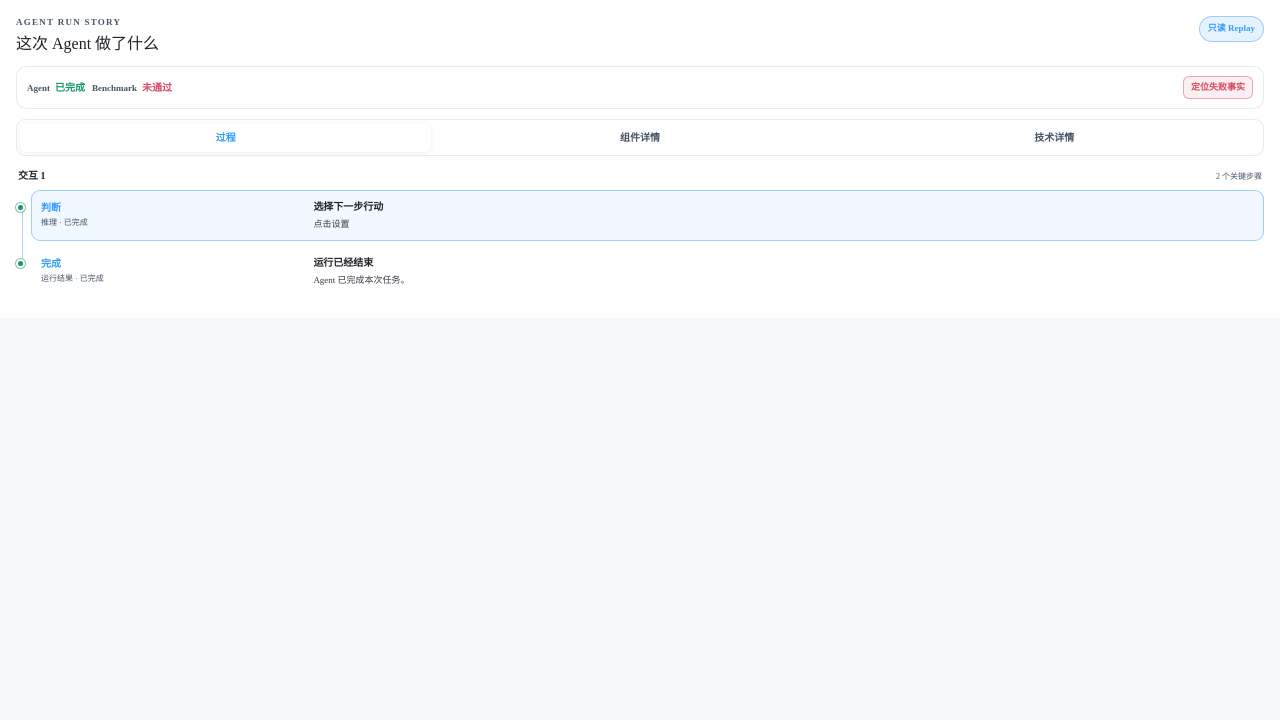
RunInspector › locks historical detail while retaining a clear return-to-current action
Step 1. Click the button "判断 推理 · 已完成 选择下一步行动 点击设置" → click(348, 206), box [31,190,1264,241]
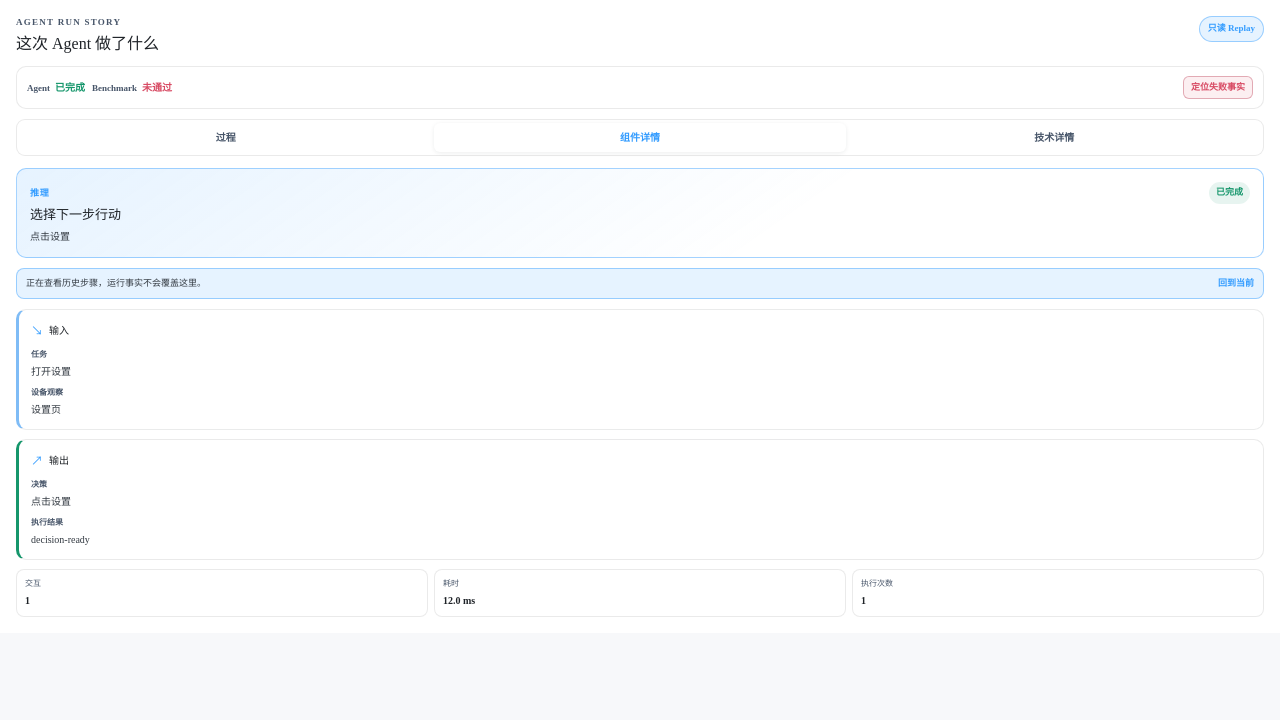
Now the text "正在查看历史步骤，运行事实不会覆盖这里。" is shown, box [26,277,206,290]
Step 2. Click the button "回到当前" → click(1236, 283), box [1218,277,1254,290]
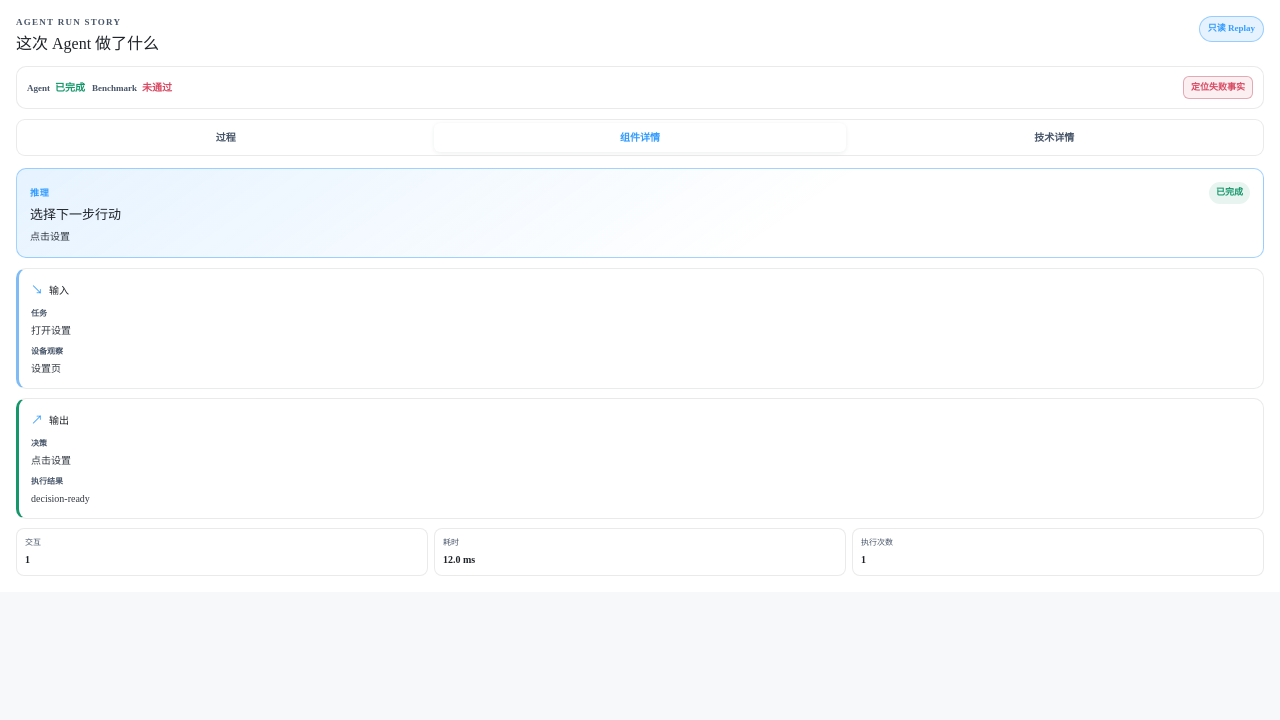
Now the text "正在查看历史步骤" is gone
